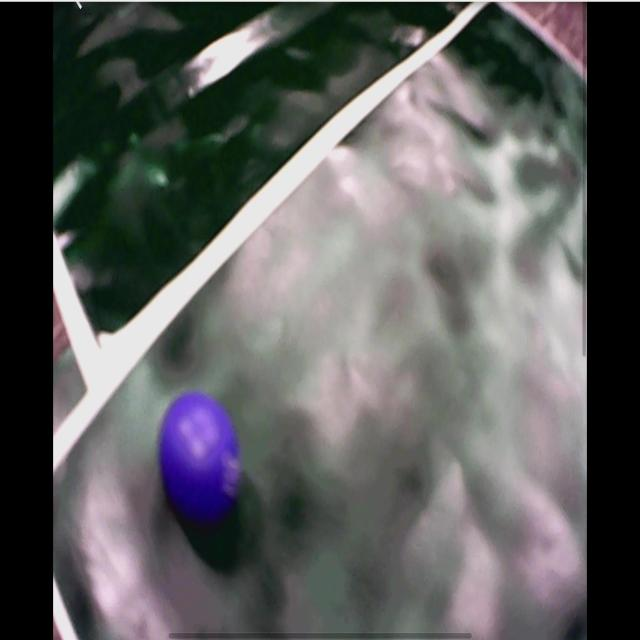ball: (160, 394, 241, 516)
